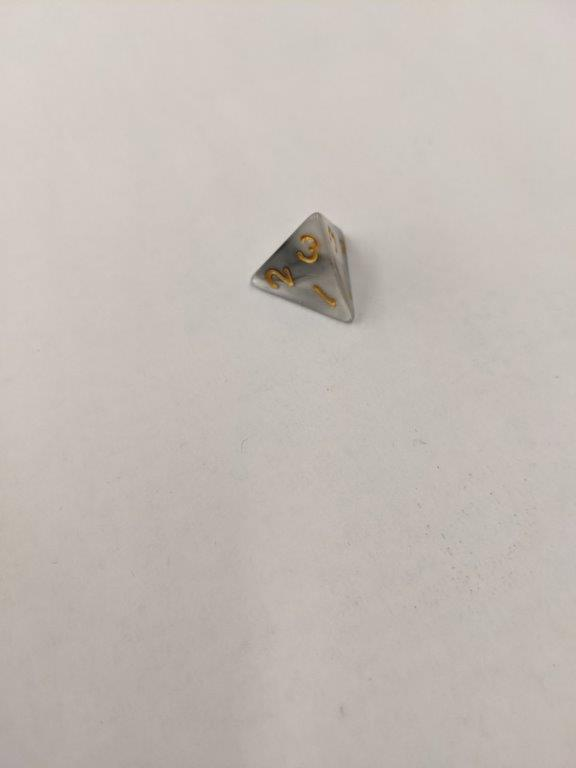d4-3: (250, 209, 361, 324)
